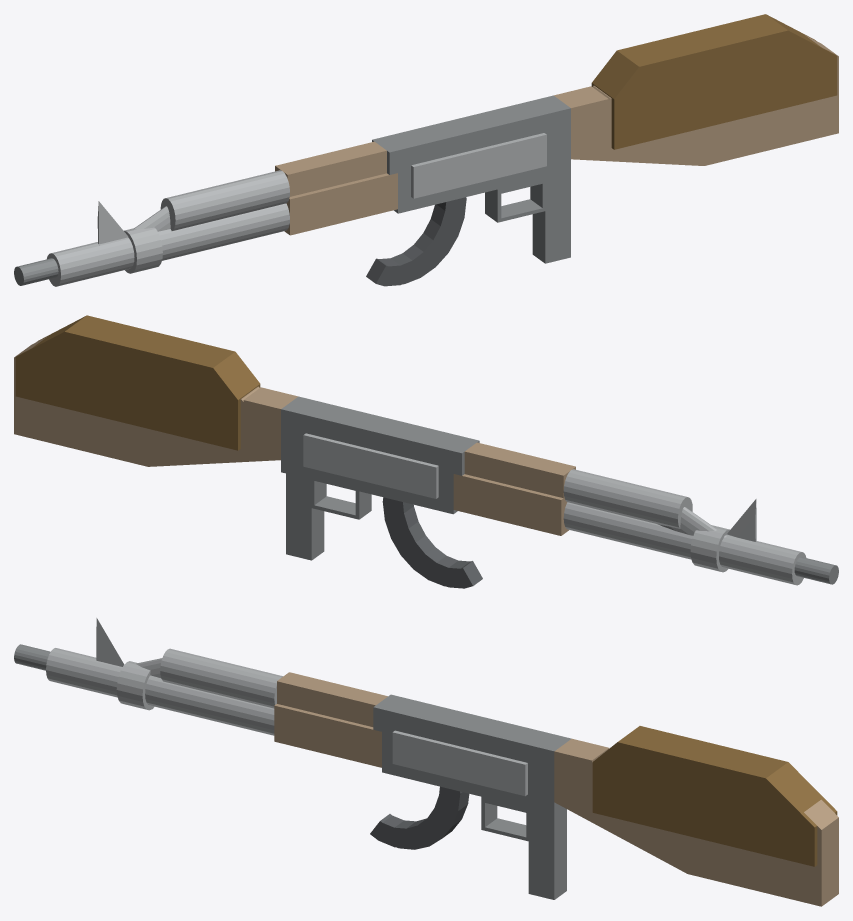
The picture shows the model from 3 angles, top to bottom: view 1: azimuth 30°, elevation 25°; view 2: azimuth 150°, elevation 25°; view 3: azimuth 330°, elevation 25°; orthographic projection.
Visible parts, largest first — view 1: Mesh_Mesh_head_geo.001_lambert2SG.001; view 2: Mesh_Mesh_head_geo.001_lambert2SG.001; view 3: Mesh_Mesh_head_geo.001_lambert2SG.001.
Boxes of the visible parts, x1,y1,x2,y2 form: Mesh_Mesh_head_geo.001_lambert2SG.001: (14,14,838,286); Mesh_Mesh_head_geo.001_lambert2SG.001: (14,315,838,588); Mesh_Mesh_head_geo.001_lambert2SG.001: (14,618,838,906).
Bounding box in the file's own units: 188 × 39 × 9.
